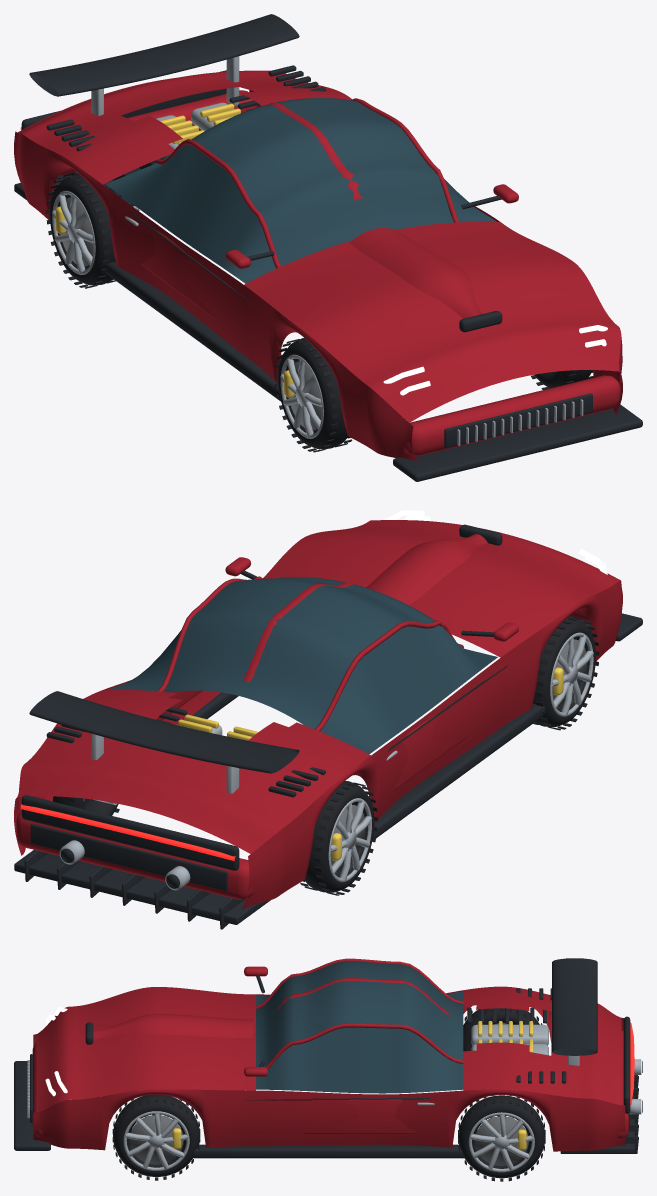
The model's file is concept-atlas.glb.
3 renders of one model, top to bottom at view 1: azimuth 30°, elevation 25°; view 2: azimuth 150°, elevation 25°; view 3: azimuth 270°, elevation 25°, orthographic. The views are drawn at different scales.
Parts seen in each view (by area): view 1: Hood, RoofGlass, SculptedSidePanelL, RearBodyDeck, SideGlazing, Wing, FrontSplitter, PowerDome, FrontBumper, CarbonSillL, TireFrontL, TireRearL (+15 smaller); view 2: RearBodyDeck, RoofGlass, Hood, SculptedSidePanelL, SideGlazing, Wing, Diffuser, RearLampFascia, PowerDome, RearIntake, CarbonSillL, TireRearL (+16 smaller); view 3: SculptedSidePanelR, Hood, RoofGlass, SideGlazing, RearBodyDeck, Wing, CarbonSillR, TireRearR, TireFrontR, PowerDome, DoorR, RimFrontR (+19 smaller).
Part boxes in pixels (x1,y1,x2,y2): Hood: (244, 221, 620, 422); RoofGlass: (162, 98, 453, 266); SculptedSidePanelL: (14, 131, 418, 462); RearBodyDeck: (17, 70, 351, 184); SideGlazing: (105, 144, 496, 283); Wing: (29, 14, 299, 96); FrontSplitter: (393, 404, 642, 481); PowerDome: (349, 228, 481, 318); FrontBumper: (404, 375, 620, 456); CarbonSillL: (104, 261, 281, 401); TireFrontL: (274, 338, 352, 452); TireRearL: (46, 173, 119, 288); RearBodyDeck: (17, 689, 370, 853); RoofGlass: (163, 577, 435, 729); Hood: (263, 520, 620, 657); SculptedSidePanelL: (242, 580, 622, 909); SideGlazing: (107, 625, 497, 754); Wing: (29, 691, 299, 773); Diffuser: (14, 850, 270, 929); RearLampFascia: (21, 795, 239, 870); PowerDome: (366, 534, 487, 605); RearIntake: (30, 824, 228, 891); CarbonSillL: (373, 704, 545, 838); TireRearL: (300, 781, 377, 895); SculptedSidePanelR: (33, 1089, 625, 1151); Hood: (38, 987, 255, 1111); RoofGlass: (256, 961, 463, 1067); SideGlazing: (256, 991, 463, 1093); RearBodyDeck: (463, 986, 621, 1105); Wing: (552, 958, 597, 1055); CarbonSillR: (192, 1144, 464, 1158); TireRearR: (458, 1095, 545, 1181); TireFrontR: (112, 1094, 200, 1180); PowerDome: (93, 1014, 253, 1039); DoorR: (302, 1099, 416, 1134); RimFrontR: (123, 1111, 189, 1170).
Bounding box in the file's own units: 2.1 × 1.4 × 5.25.
